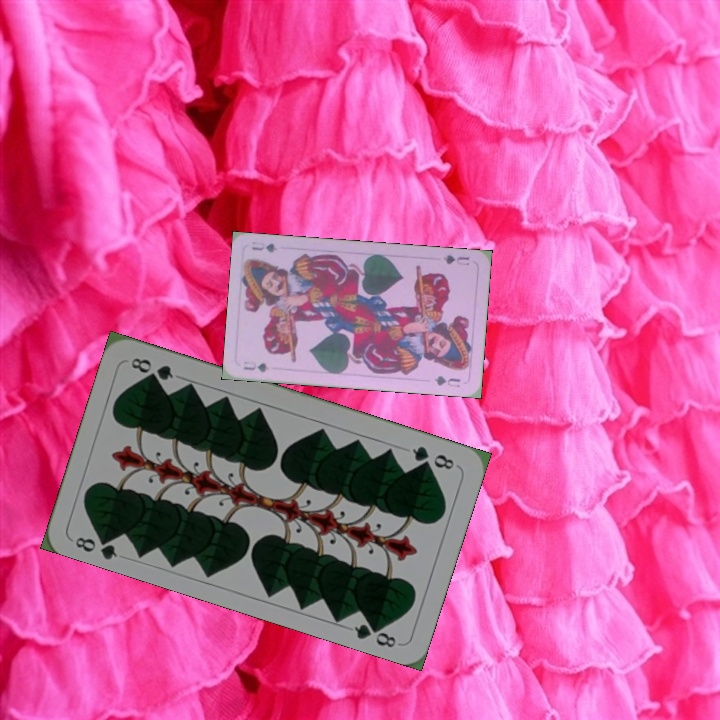G8: (71, 529, 120, 562), (408, 442, 457, 472)
GU: (440, 250, 472, 268), (239, 357, 271, 375)
